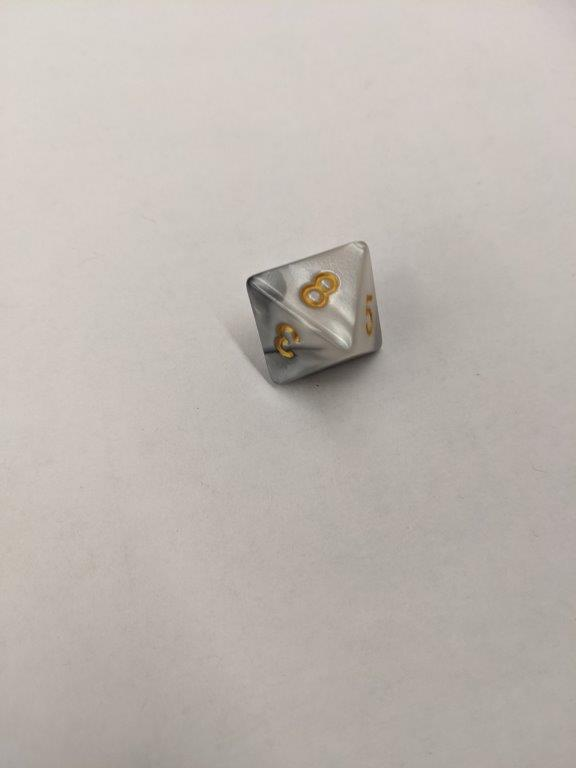d8-8: (245, 239, 383, 386)
